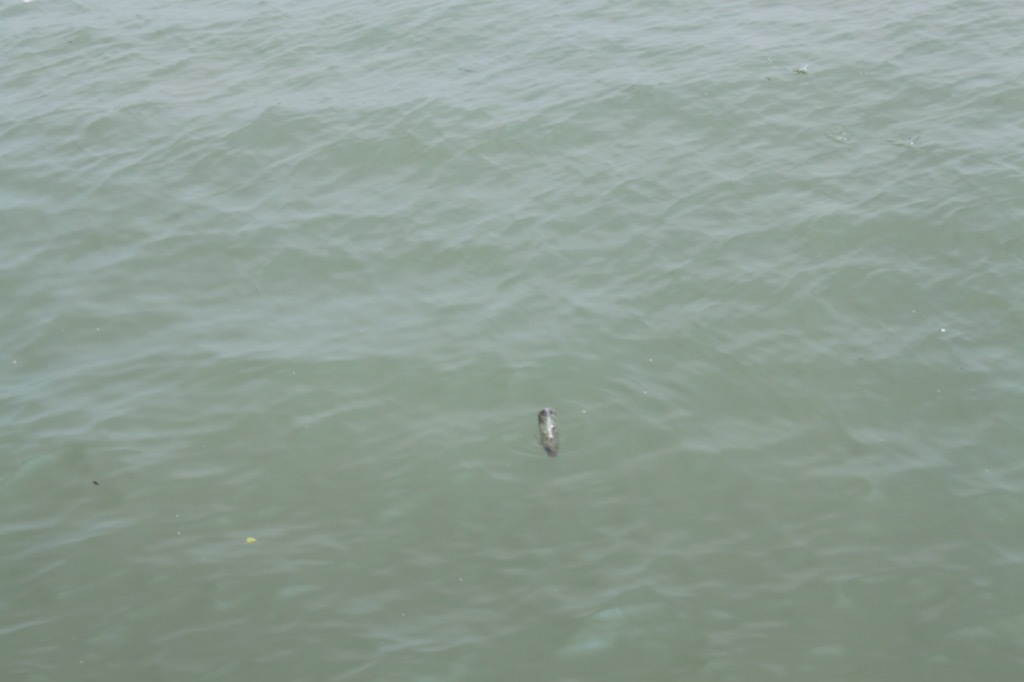plastic: (533, 400, 569, 462), (236, 532, 265, 551), (87, 471, 104, 491)
